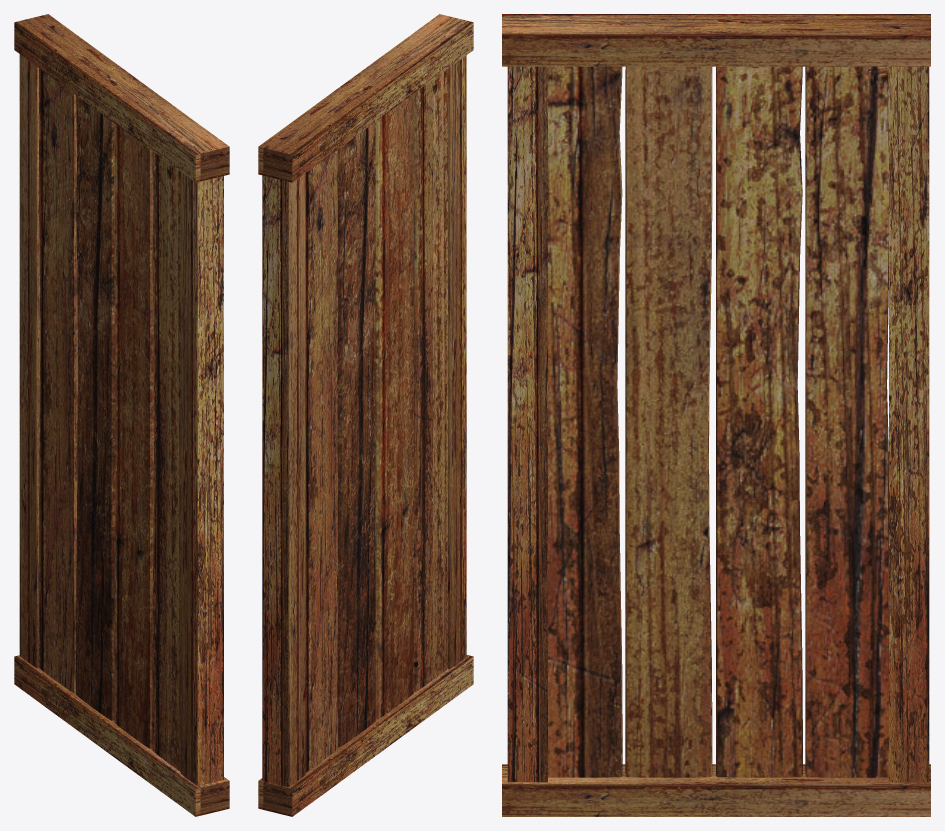
File: 木栅栏men03.FBX
The picture shows the model from 3 angles, left to right: view 1: azimuth 30°, elevation 25°; view 2: azimuth 150°, elevation 25°; view 3: azimuth 270°, elevation 25°; orthographic projection. The views are drawn at different scales.
Parts seen in each view (by area): view 1: Object14; view 2: Object14; view 3: Object14.
Part boxes in pixels (<box>): Object14: <box>14,14,229,816</box>; Object14: <box>258,14,473,816</box>; Object14: <box>502,14,930,816</box>.
Size of the model in its own units: 3.59 by 33.2 by 66.92.
